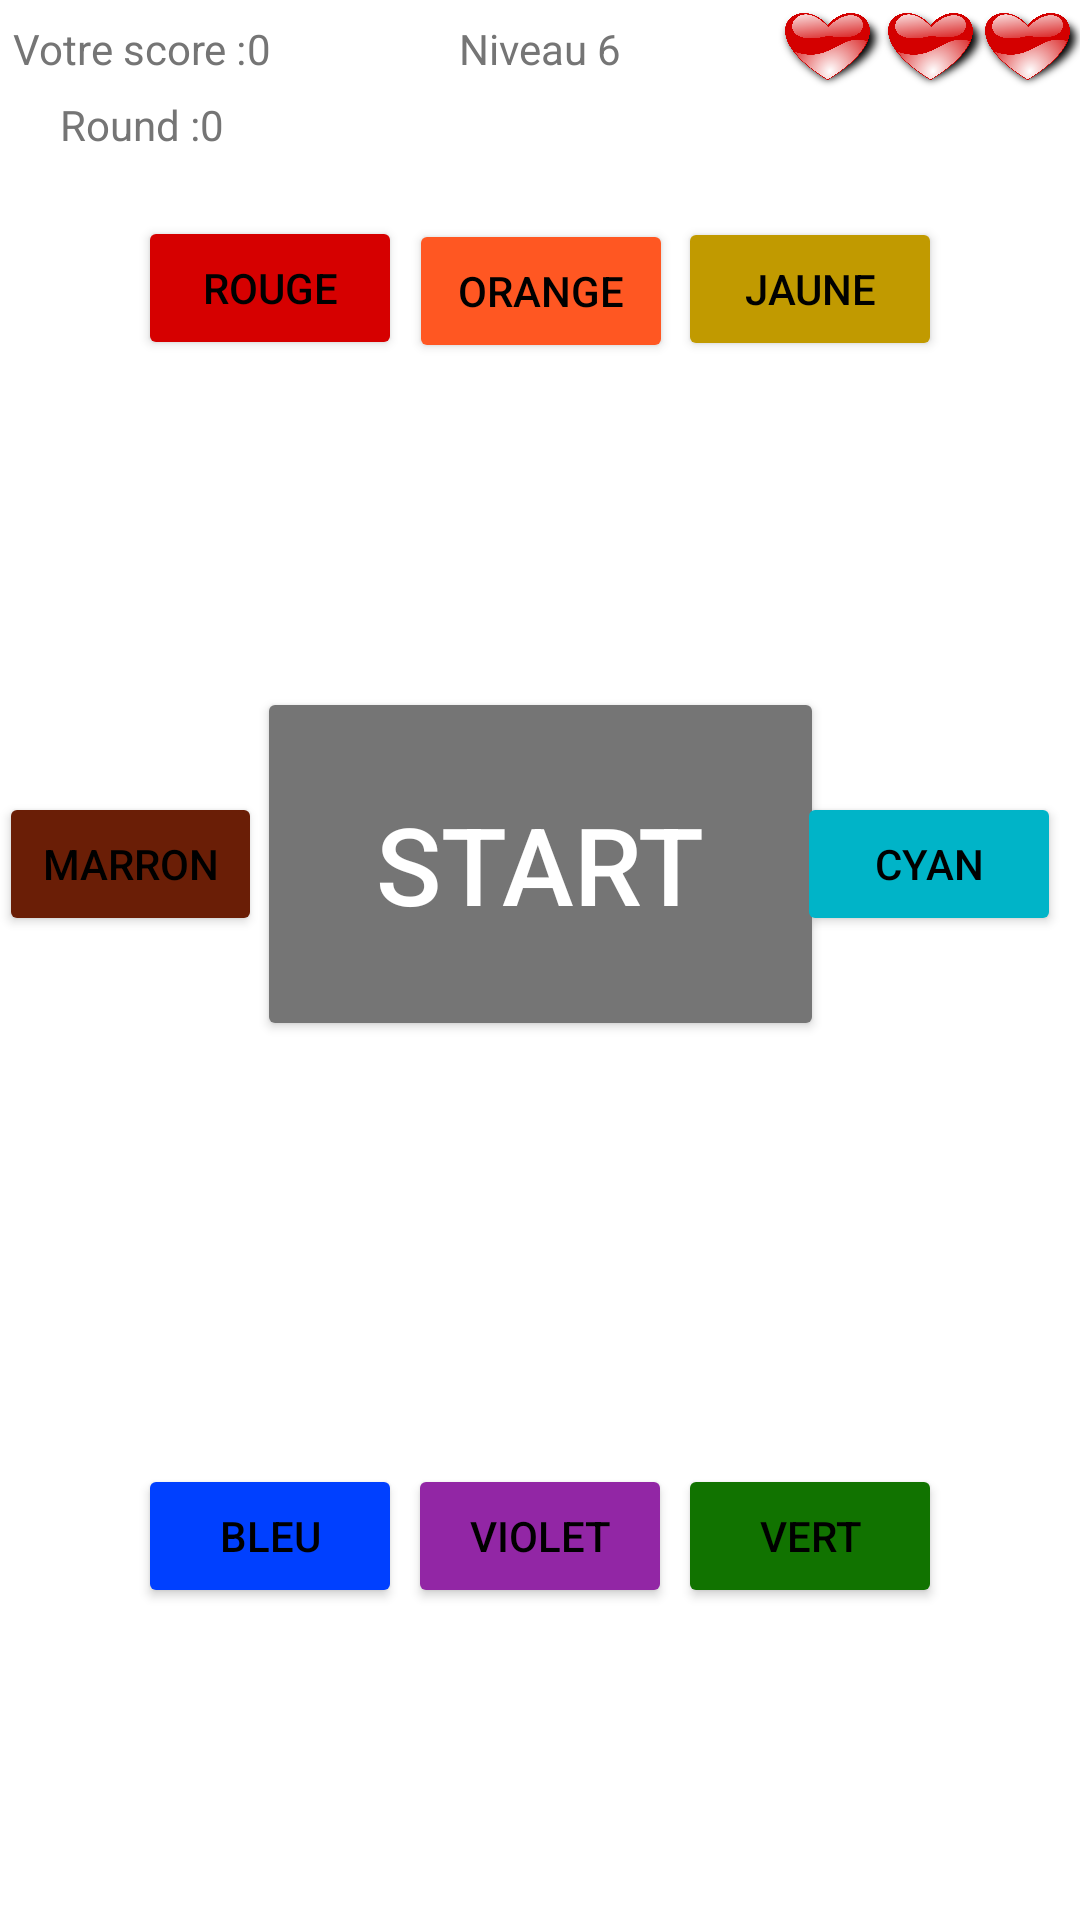

Icons on this 1080 x 1920 Android screen, each with its box as (x1, y1, x2, y2):
Image de Coeur pour la vie: (783, 13, 881, 83), (978, 13, 1080, 83)
